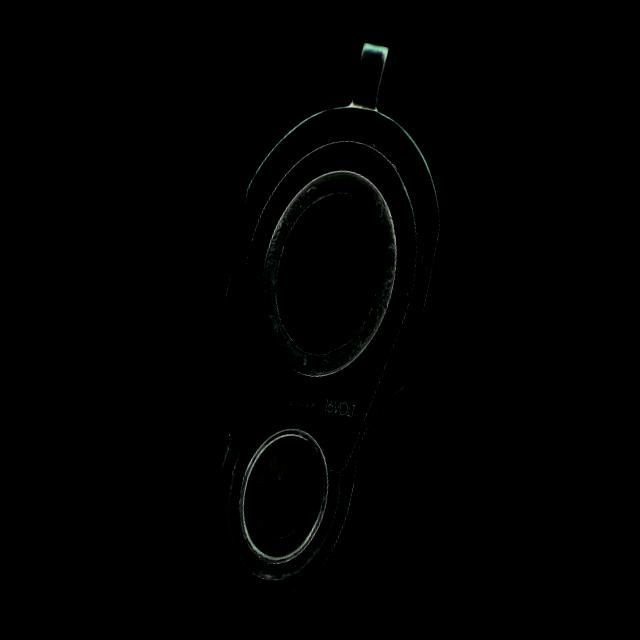handgun: (155, 10, 478, 622)
